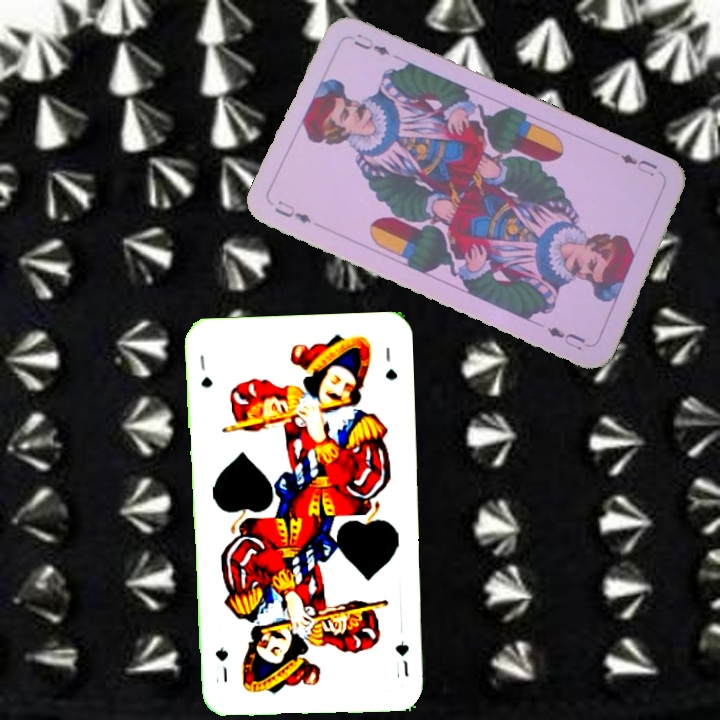EU: (270, 196, 314, 227), (616, 149, 660, 179)
GU: (391, 637, 412, 680), (196, 351, 215, 390)
